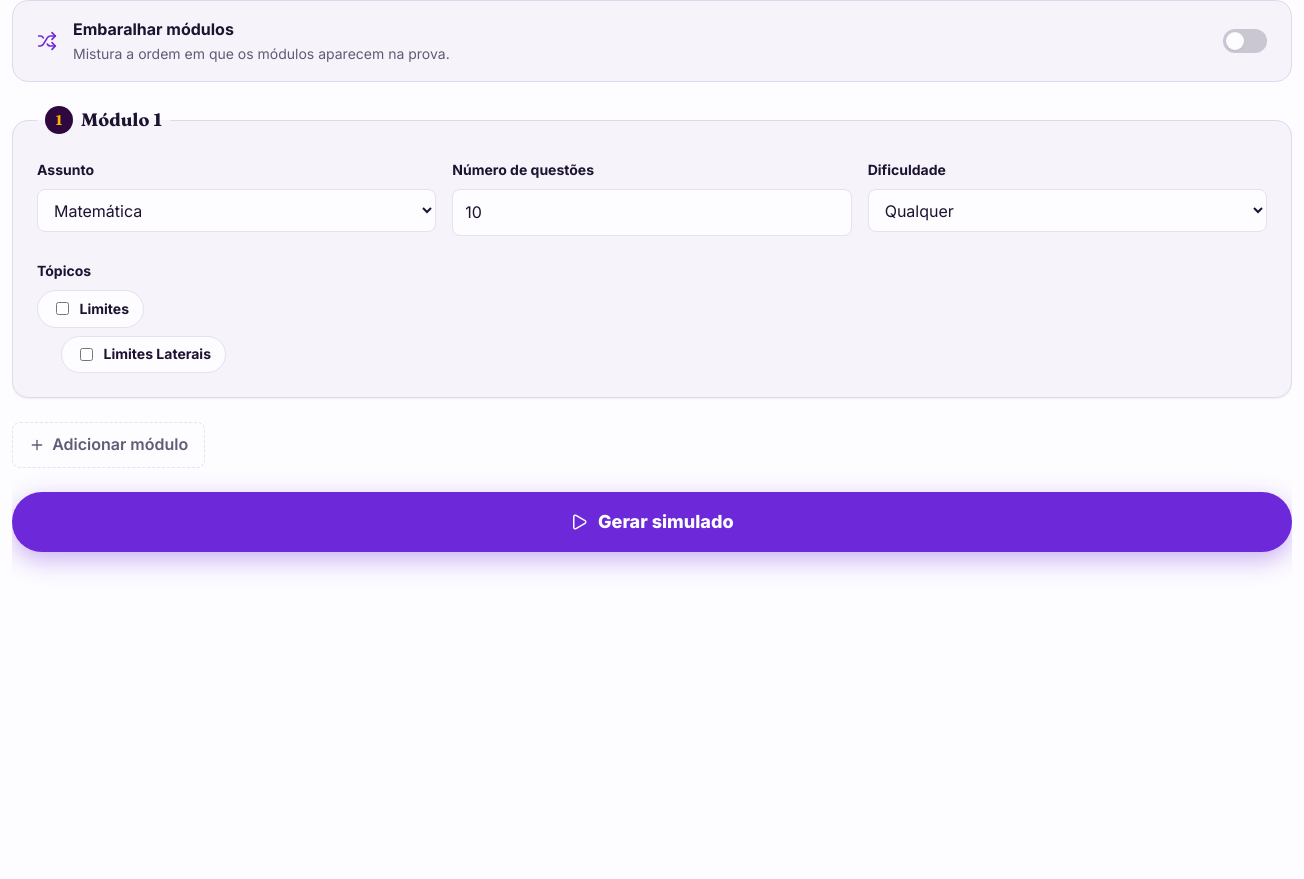
SimuladoSetup › "Adicionar módulo" adds an independent module with its own fields, and both modules gain a remove button
The image size is (1304, 879).
Click the button "Adicionar módulo".
click(109, 445)  # box [12, 422, 205, 468]
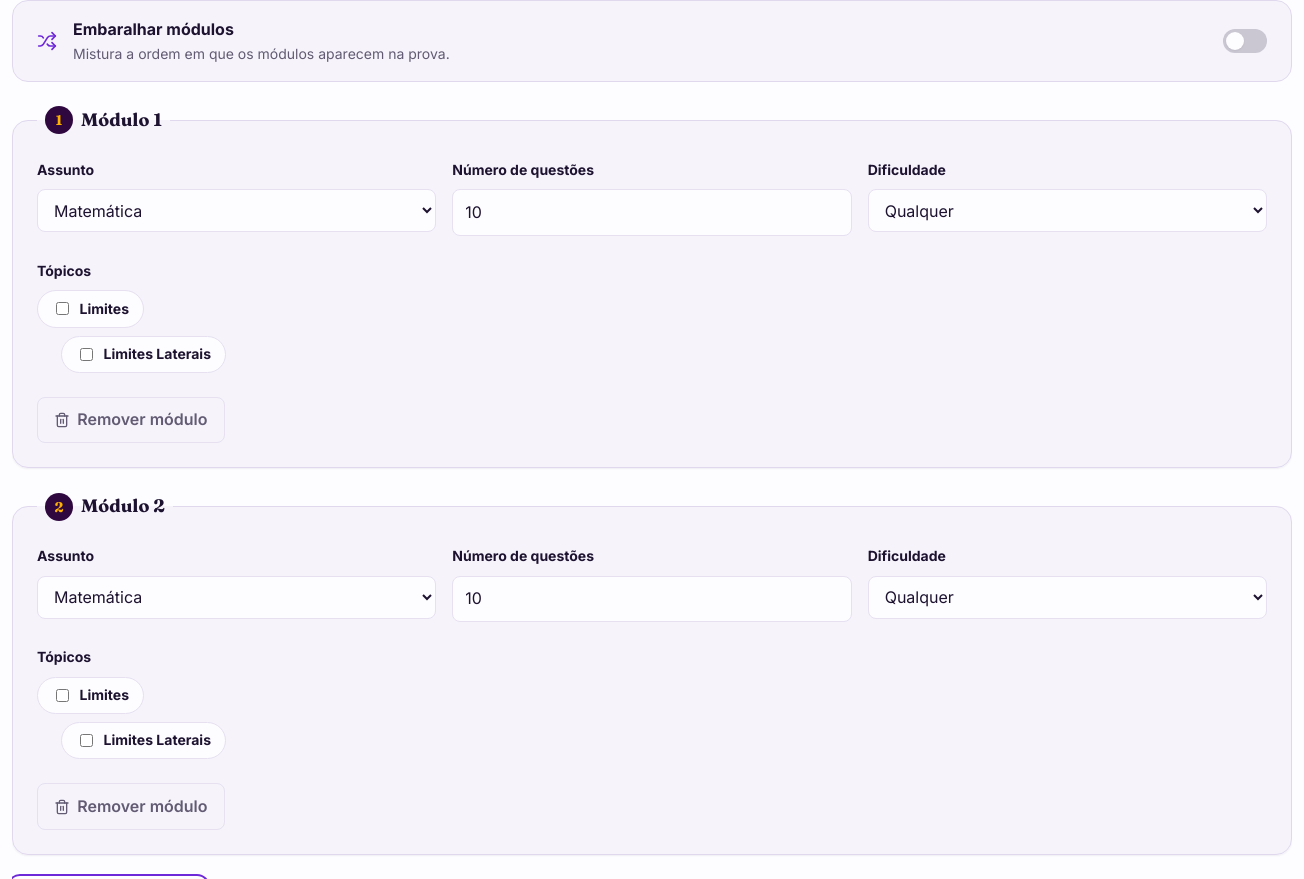
Now the number of dropdowns labelled "Assunto" is 2, box [37, 189, 436, 232]; [37, 576, 436, 619]
Now the number of number fields labelled "Número de questões" is 2, box [452, 189, 852, 236]; [452, 576, 852, 622]
Now the number of dropdowns labelled "Dificuldade" is 2, box [868, 189, 1267, 232]; [868, 576, 1267, 619]
